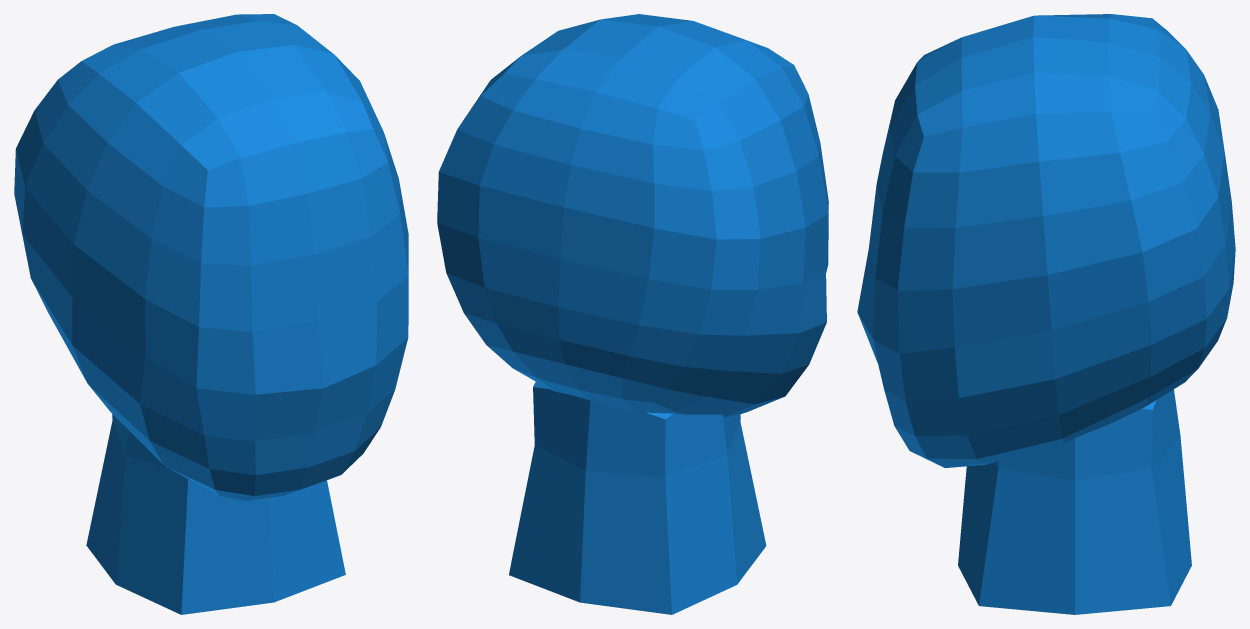
The model's file is HEAD.fbx.
The picture shows the model from 3 angles, left to right: view 1: azimuth 30°, elevation 25°; view 2: azimuth 150°, elevation 25°; view 3: azimuth 270°, elevation 25°; orthographic projection.
Visible parts, largest first — view 1: NECK; view 2: NECK; view 3: NECK.
Boxes of the visible parts, x1,y1,x2,y2 form: NECK: (14,14,408,614); NECK: (437,14,828,614); NECK: (857,14,1235,614).
Size of the model in its own units: 0.2961 by 0.4695 by 0.3046.
